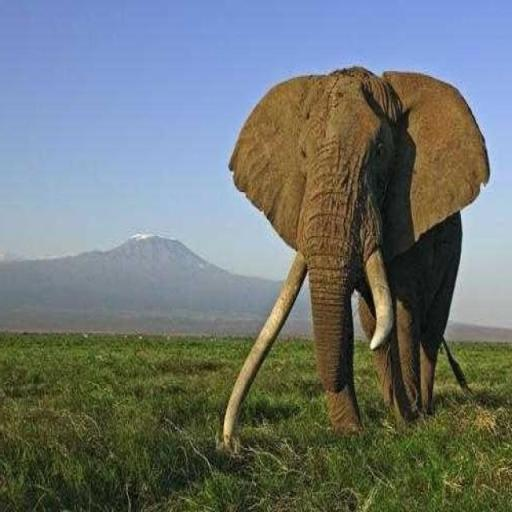Elephant: (220, 64, 490, 454)
